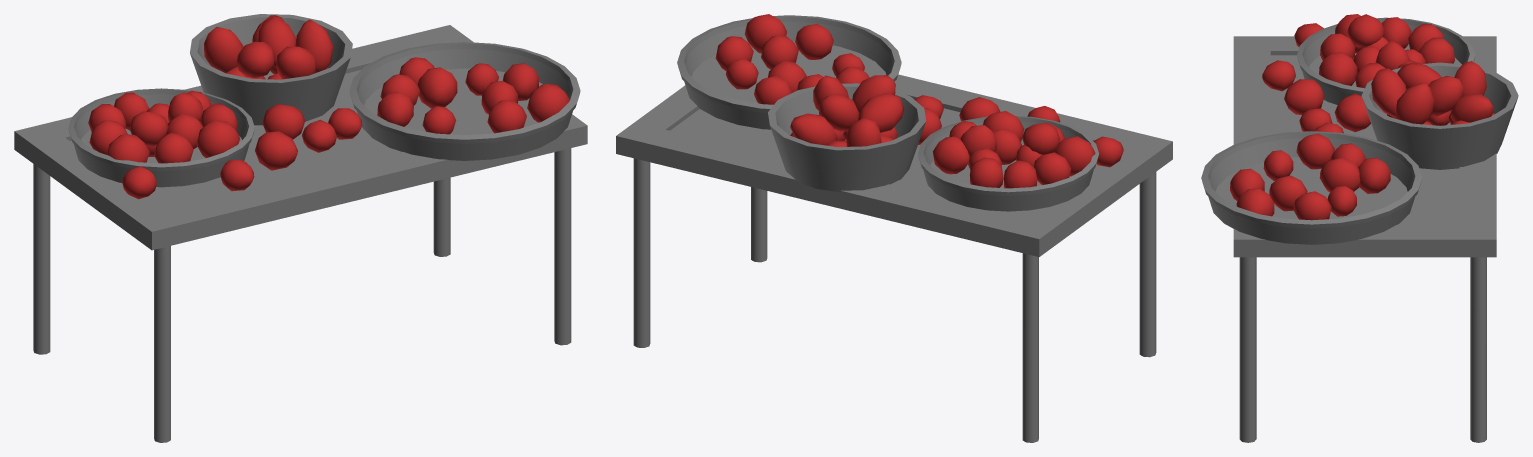
The model's file is SM_table_market_02.fbx.
3 renders of one model, left to right at view 1: azimuth 30°, elevation 25°; view 2: azimuth 150°, elevation 25°; view 3: azimuth 270°, elevation 25°, orthographic. The views are drawn at different scales.
Visible parts, largest first — view 1: Cylinder424357; view 2: Cylinder424357; view 3: Cylinder424357.
Part boxes in pixels (bbox=[...]): Cylinder424357: bbox=[14, 14, 587, 442]; Cylinder424357: bbox=[616, 14, 1172, 442]; Cylinder424357: bbox=[1201, 14, 1518, 442].
Size of the model in its own units: 71.52 by 44.17 by 45.3.
